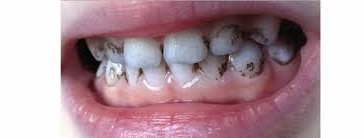Tooth Discoloration: (215, 46, 268, 80), (212, 21, 273, 45), (96, 35, 128, 60), (106, 62, 131, 85), (191, 59, 208, 75)
